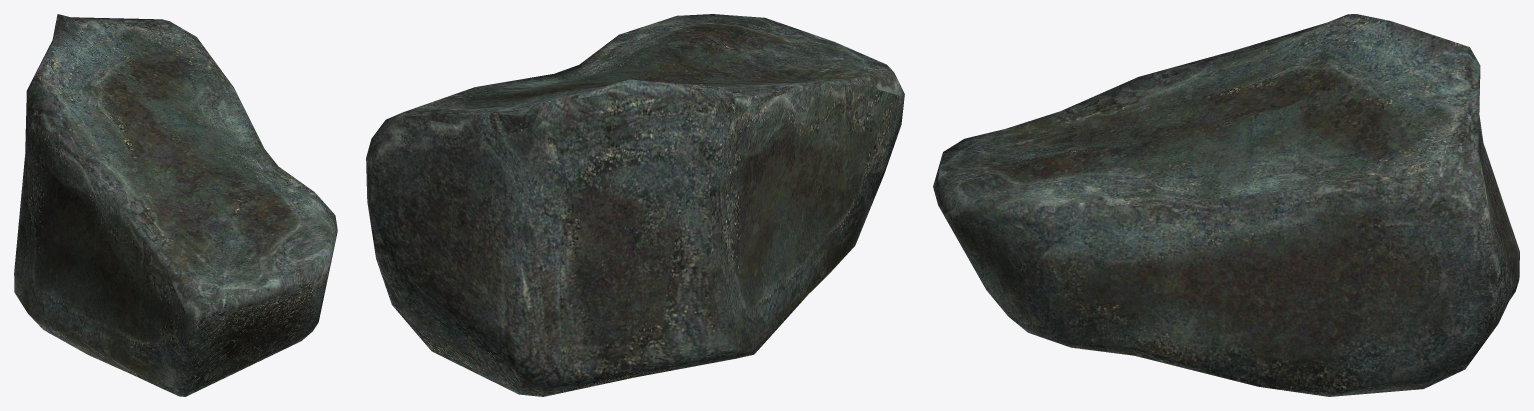
Rendered from ruins_blackstone_debris_tiny04_ash.dae.
3 views of the same model, side by side, from view 1: azimuth 30°, elevation 25°; view 2: azimuth 150°, elevation 25°; view 3: azimuth 270°, elevation 25° (orthographic). The views are drawn at different scales.
Parts seen in each view (by area): view 1: 04; view 2: 04; view 3: 04.
Part boxes in pixels (<box>): 04: <box>14,14,337,396</box>; 04: <box>366,14,904,396</box>; 04: <box>933,14,1519,396</box>.
Bounding box in the file's own units: 0.2361 × 0.2519 × 0.4201.
